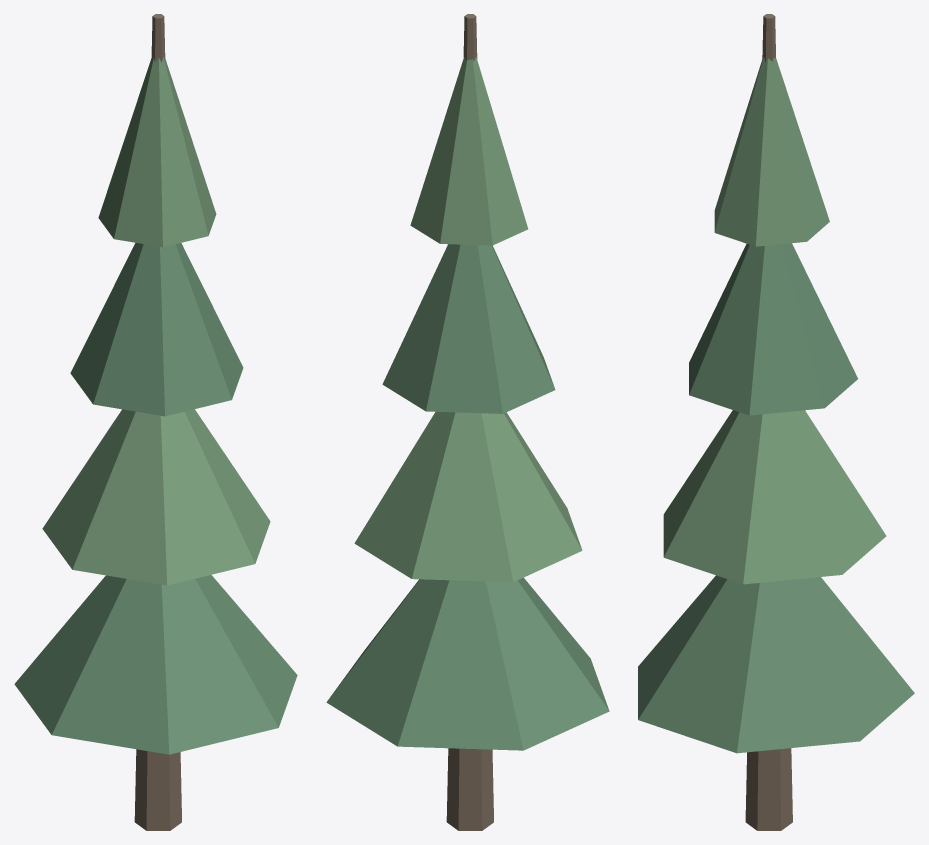
Rendered from pine_v27.glb.
3 views of the same model, side by side, from view 1: azimuth 30°, elevation 25°; view 2: azimuth 150°, elevation 25°; view 3: azimuth 270°, elevation 25° (orthographic).
Visible parts, largest first — view 1: lod0; view 2: lod0; view 3: lod0.
Boxes of the visible parts, left/top/right/bottom form: lod0: left=14, top=14, right=297, bottom=830; lod0: left=326, top=14, right=609, bottom=830; lod0: left=638, top=14, right=914, bottom=830.
Size of what is drawn, in the model's own units: 2.4 by 7.5 by 2.34.
